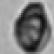correct: (11, 0, 52, 52)
